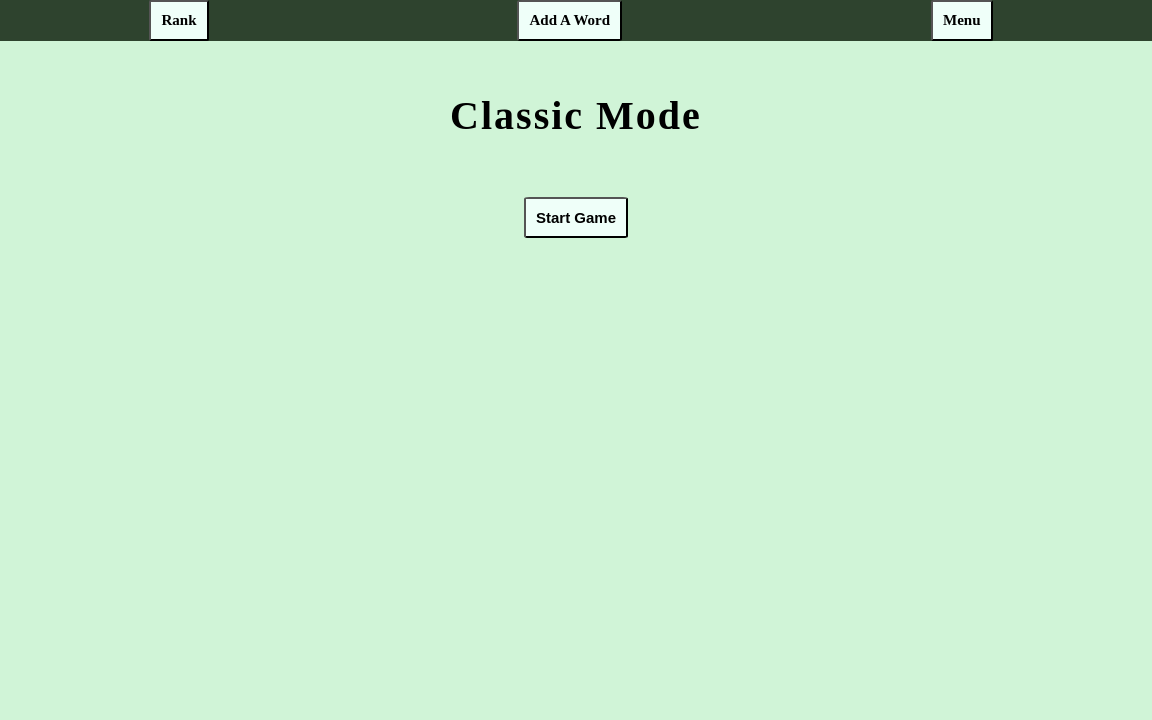
it: ClassicMode Component › opens and closes Add A Word model
The image size is (1152, 720).
Click the button "Add A Word": (570, 20) [518,0,622,41]
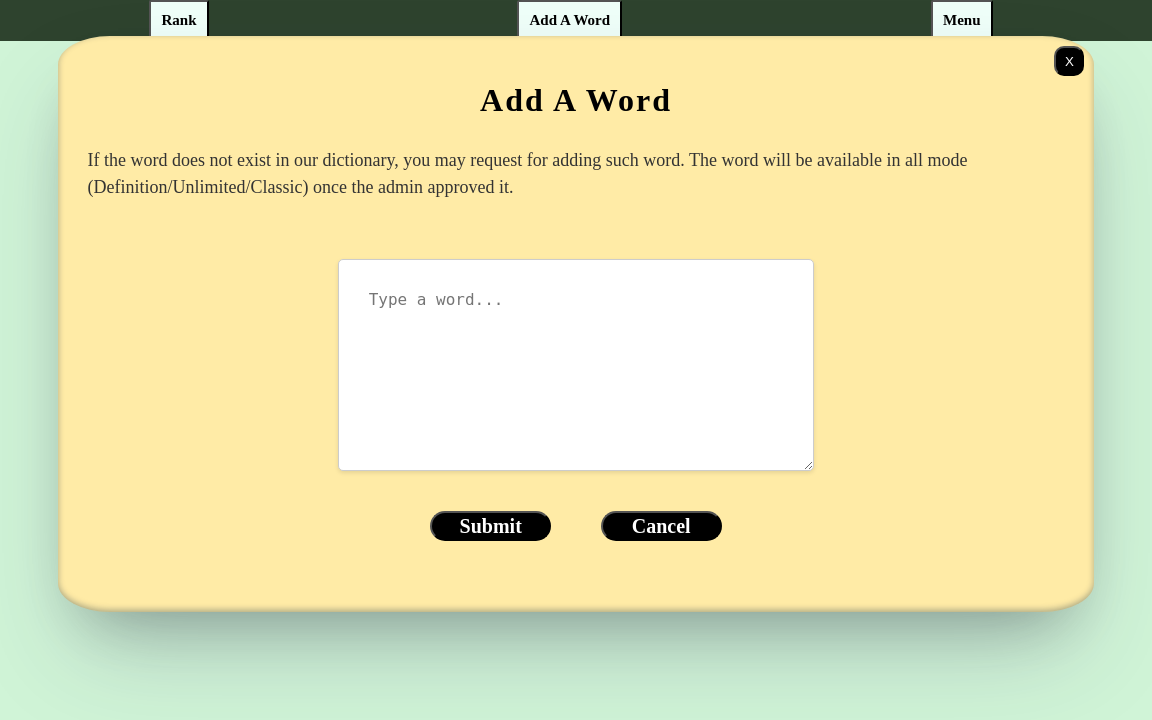
Check: the button "Submit" is shown, box [430,511,551,541]
Click the button "X": (1069, 61) [1054,46,1084,76]
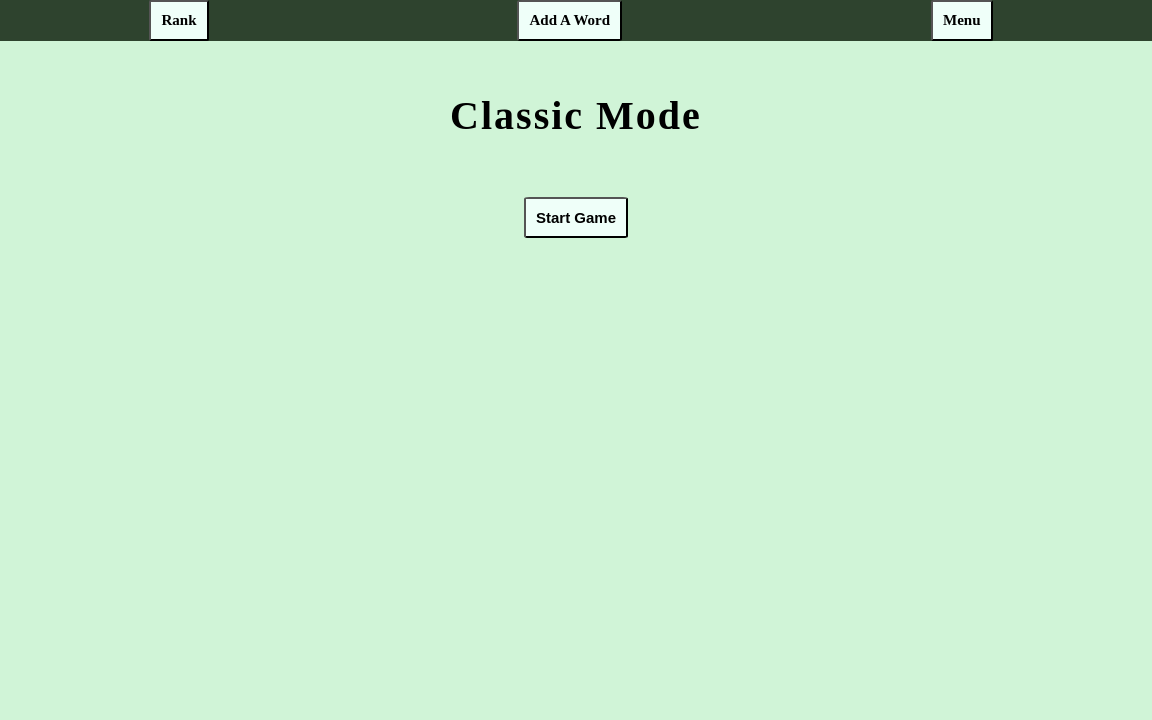
Check: the button "Submit" is gone
